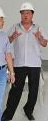boots: (22, 106, 34, 118), (24, 110, 34, 118)
hard-hat: (0, 5, 10, 17)
